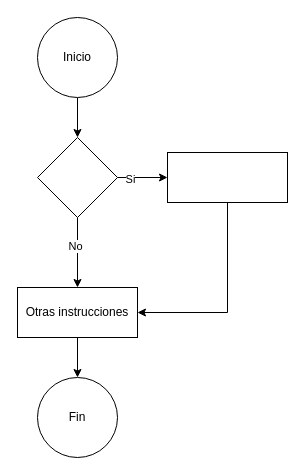
Some shapes in this 305 by 475 pixel diagram are drawn without their labels. The shapes that lost their labels are listed below. From the top down, each one's box as (x1, y1, x2, y2) in pixels, then its label:
(36, 136, 118, 218): ¿Cumple condición?
(166, 152, 288, 202): Instrucciones condicionadas
